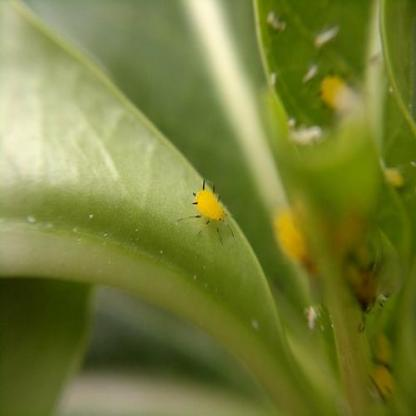aphid: (269, 203, 311, 275), (184, 178, 230, 238)
